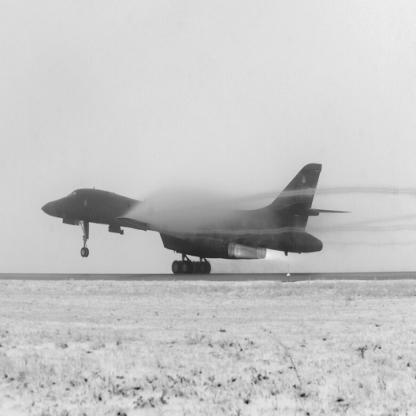B1: (42, 163, 354, 275)
